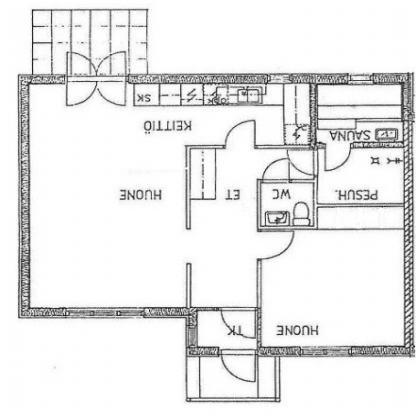bathroom: (315, 77, 410, 231), (257, 182, 318, 228)
door: (63, 51, 134, 110), (59, 53, 98, 107), (96, 50, 132, 108), (216, 303, 260, 342), (217, 344, 258, 383), (214, 119, 261, 152), (253, 230, 296, 262), (284, 146, 322, 182), (259, 157, 292, 185), (321, 146, 354, 174)
perimeter: (25, 77, 409, 352)
window: (60, 304, 150, 323), (293, 343, 354, 360), (180, 324, 204, 351), (343, 70, 377, 88), (264, 68, 293, 86)
